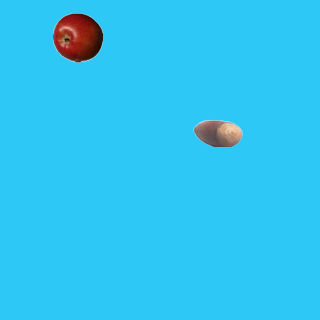Apple Braeburn: (52, 12, 102, 62)
Hazelnut: (192, 108, 242, 158)
